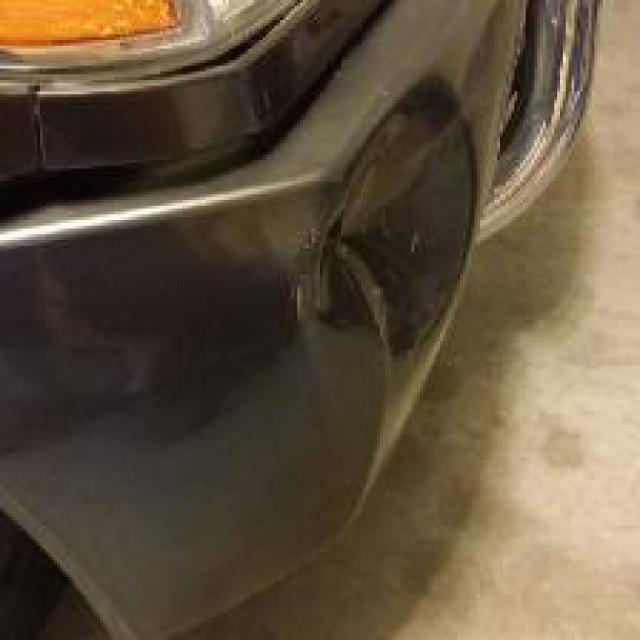damaged: (294, 71, 489, 526)
